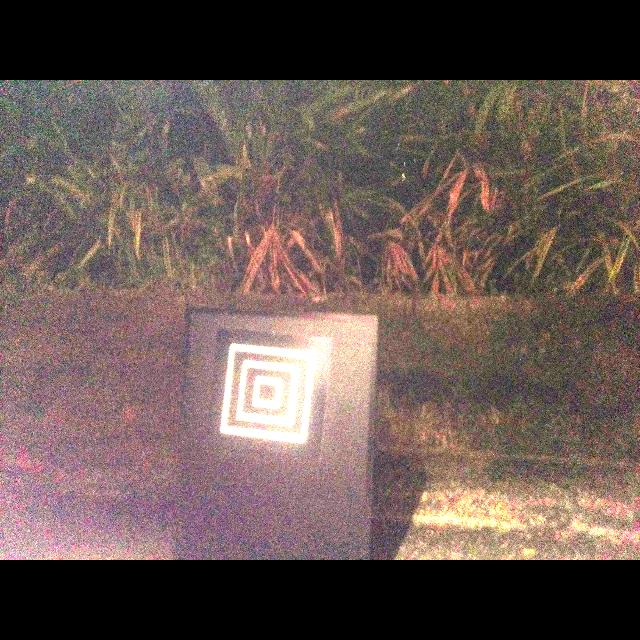BULLSEYE: (221, 345, 314, 443)
